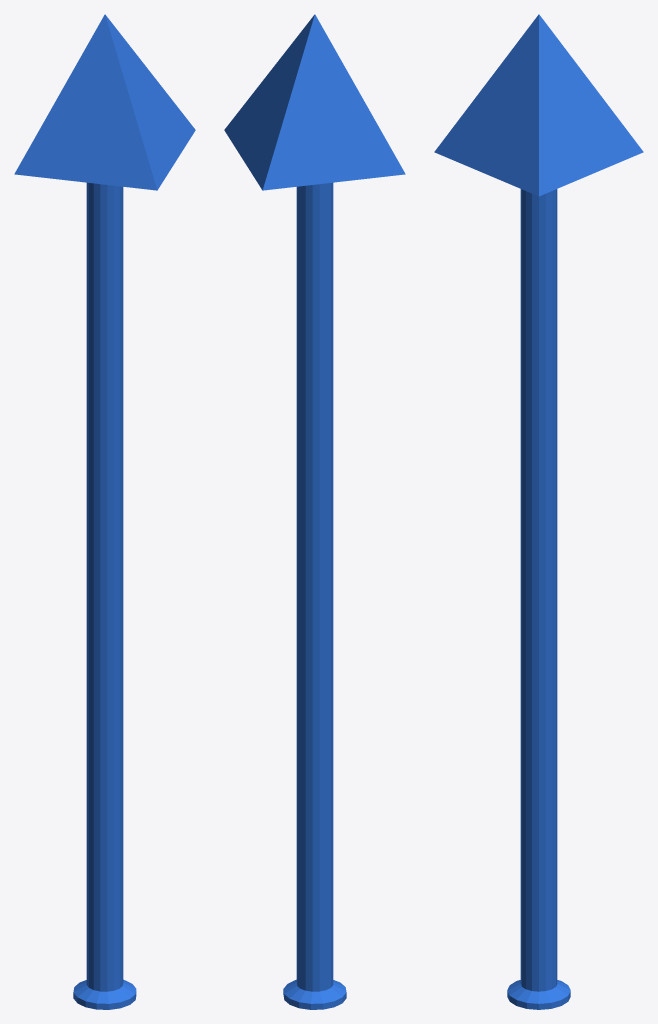
Rendered from Farolas.fbx.
3 views of the same model, side by side, from view 1: azimuth 30°, elevation 25°; view 2: azimuth 150°, elevation 25°; view 3: azimuth 270°, elevation 25° (orthographic).
Parts seen in each view (by area): view 1: Cylinder, Cone; view 2: Cylinder, Cone; view 3: Cylinder, Cone.
Part boxes in pixels (x1,y1,x2,y2): Cylinder: (73,182,136,1009); Cone: (14,14,195,190); Cylinder: (283,182,346,1009); Cone: (224,14,405,190); Cylinder: (507,189,570,1009); Cone: (434,14,643,196).
Size of the model in its own units: 88 by 455 by 88.
